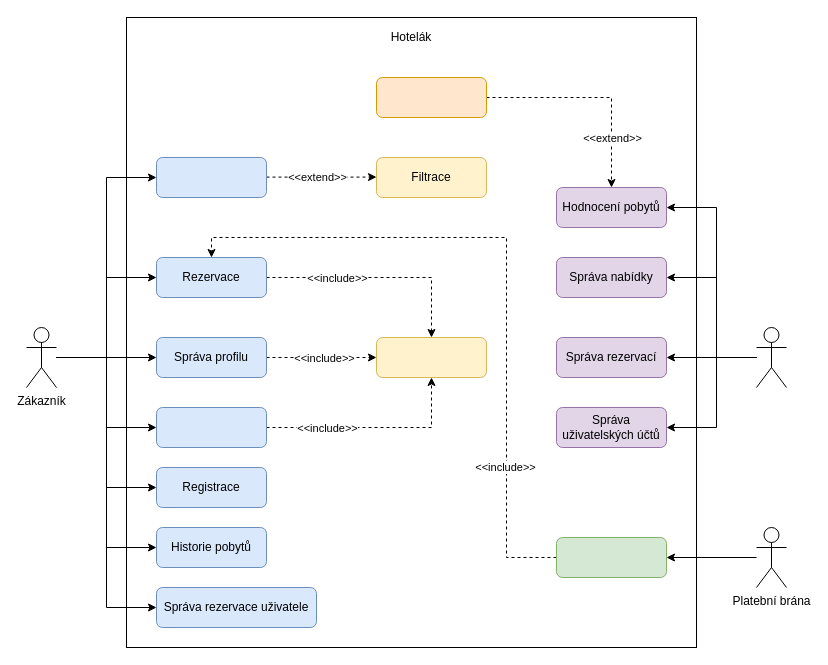
Image size: 828x665. Some labels were removed from this diagram. Each missing label, with the centre of its shape:
"Hodnocení pobytu" goes at [211,427].
"Platby" goes at [611,557].
"Poskytovatel" goes at [771,357].
"Prohlížení pokojů" goes at [211,177].
"Přihlášení" goes at [431,357].
"Reakce na hodnocení" goes at [431,97].
